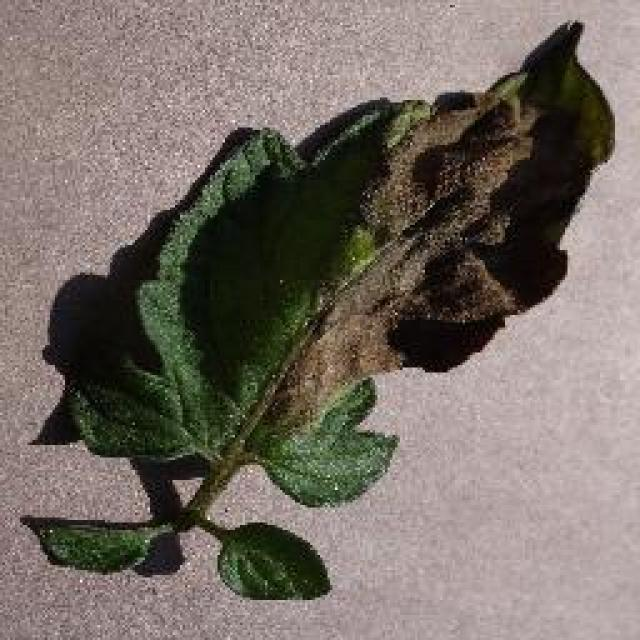Tomato Late Blight: (232, 88, 565, 457)
